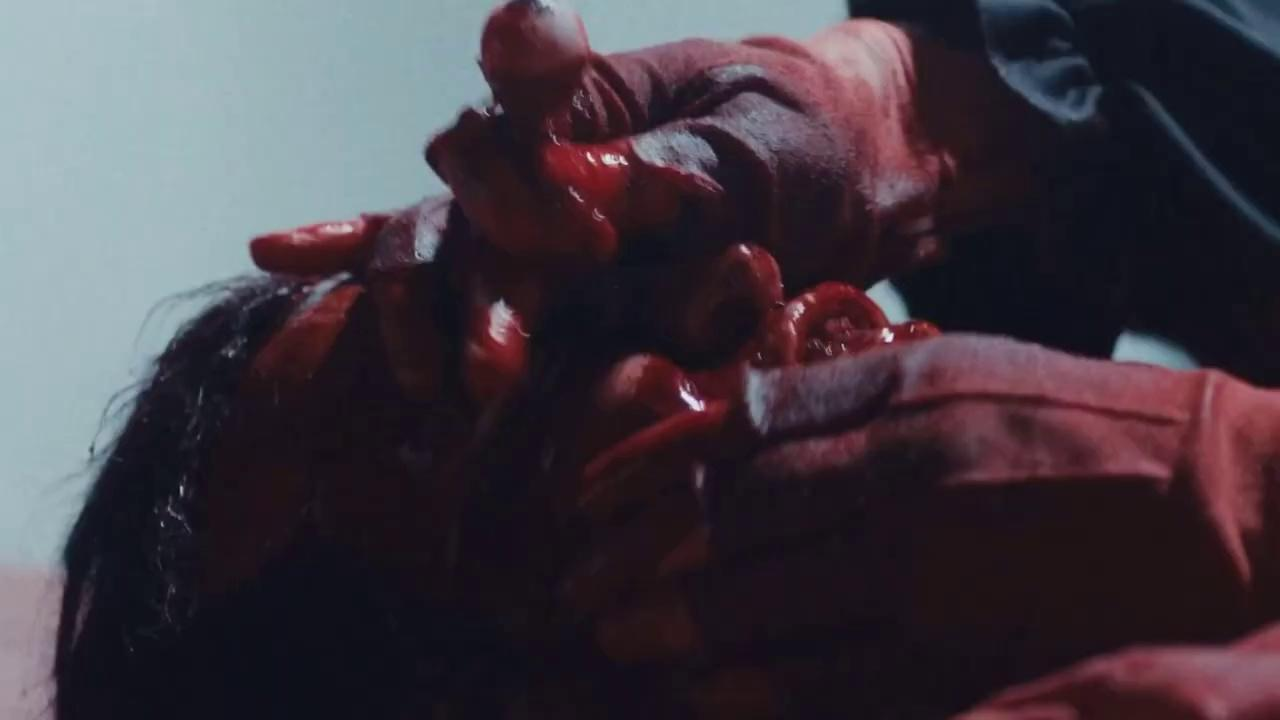Fire: (256, 0, 1280, 715)
